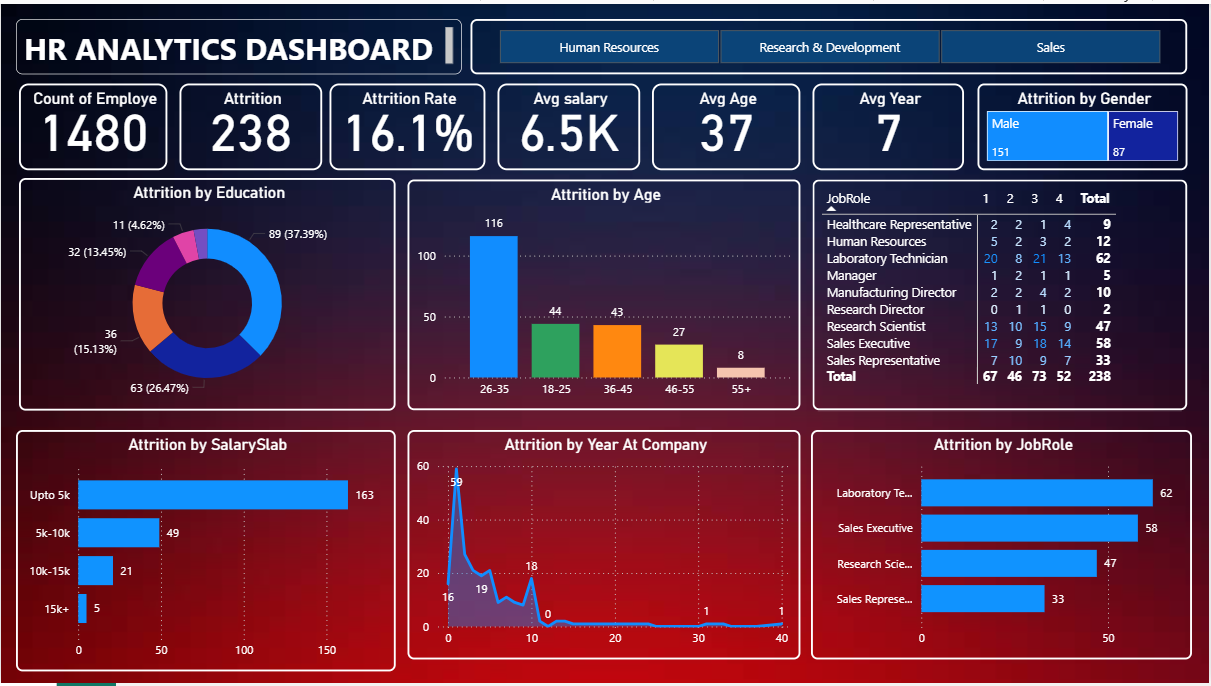

What the dashboard file says about the page in this screenshot:
{"tool":"powerbi","page":{"name":"Page 1","canvas":[1280,720],"ordinal":0},"visuals":[{"type":"card","title":"Count of Employe","fields":{"Values":["CountNonNull(HR_Analytics.EmpID)"]},"box":[19.1,84.3,157.5,92.3],"z":0},{"type":"card","title":"Attrition","fields":{"Values":["Sum(HR_Analytics.attritioncount)"]},"box":[189.3,84.3,151.1,92.3],"z":1000},{"type":"card","title":"Avg Age","fields":{"Values":["Avg(HR_Analytics.Age)"]},"box":[690.3,84.3,157.5,92.3],"z":2000},{"type":"card","title":"Attrition Rate","fields":{"Values":["HR_Analytics.AttritionRate"]},"box":[348.3,84.3,165.4,92.3],"z":3000},{"type":"card","title":"Avg salary","fields":{"Values":["Avg(HR_Analytics.MonthlyIncome)"]},"box":[526.5,84.3,151.1,92.3],"z":4000},{"type":"card","title":"Avg Year","fields":{"Values":["Avg(HR_Analytics.YearsAtCompany)"]},"box":[860.5,84.3,160.7,92.3],"z":5000},{"type":"donutChart","title":"Attrition by Education","fields":{"Category":["HR_Analytics.EducationField"],"Y":["Sum(HR_Analytics.attritioncount)"]},"box":[19.1,184.5,399.2,246.5],"z":6000},{"type":"columnChart","title":"Attrition by Age","fields":{"Category":["HR_Analytics.AgeGroup"],"Y":["Sum(HR_Analytics.attritioncount)"]},"box":[431.1,186.1,416.7,245],"z":7000},{"type":"pivotTable","fields":{"Rows":["HR_Analytics.JobRole"],"Columns":["HR_Analytics.JobSatisfaction"],"Values":["Sum(HR_Analytics.attritioncount)"]},"box":[860.5,186.1,397.7,245],"z":7001},{"type":"barChart","title":"Attrition by SalarySlab","fields":{"Category":["HR_Analytics.SalarySlab"],"Y":["Sum(HR_Analytics.attritioncount)"]},"box":[15.9,451.7,402.4,256.1],"z":7002},{"type":"barChart","title":"Attrition by JobRole","fields":{"Category":["HR_Analytics.JobRole"],"Y":["Sum(HR_Analytics.attritioncount)"]},"box":[858.9,451.7,404,243.4],"z":7003},{"type":"areaChart","title":"Attrition by Year At Company","fields":{"Category":["HR_Analytics.YearsAtCompany"],"Y":["Sum(HR_Analytics.attritioncount)"]},"box":[431.1,451.7,416.7,243.4],"z":7004},{"type":"treemap","title":"Attrition by Gender","fields":{"Group":["HR_Analytics.Gender"],"Values":["Sum(HR_Analytics.attritioncount)"]},"box":[1035.5,84.3,222.7,92.3],"z":7005},{"type":"textbox","box":[15.9,15.9,472.4,58.9],"z":7006},{"type":"slicer","fields":{"Values":["HR_Analytics.Department"]},"box":[497.9,15.9,760.3,58.9],"z":7007}]}

Visuals, with their boxes in screenshot pixels (x1, y1, x2, y2), scaled from the page's 1280x720 canvas onto the 1211x686 screenshot:
"Count of Employe" card: locate(18, 80, 167, 168)
"Attrition" card: locate(179, 80, 322, 168)
"Avg Age" card: locate(653, 80, 802, 168)
"Attrition Rate" card: locate(330, 80, 486, 168)
"Avg salary" card: locate(498, 80, 641, 168)
"Avg Year" card: locate(814, 80, 966, 168)
"Attrition by Education" donutChart: locate(18, 176, 396, 411)
"Attrition by Age" columnChart: locate(408, 177, 802, 411)
pivotTable - HR_Analytics.JobRole x HR_Analytics.JobSatisfaction: locate(814, 177, 1190, 411)
"Attrition by SalarySlab" barChart: locate(15, 430, 396, 674)
"Attrition by JobRole" barChart: locate(813, 430, 1195, 662)
"Attrition by Year At Company" areaChart: locate(408, 430, 802, 662)
"Attrition by Gender" treemap: locate(980, 80, 1190, 168)
textbox: locate(15, 15, 462, 71)
slicer - HR_Analytics.Department: locate(471, 15, 1190, 71)
